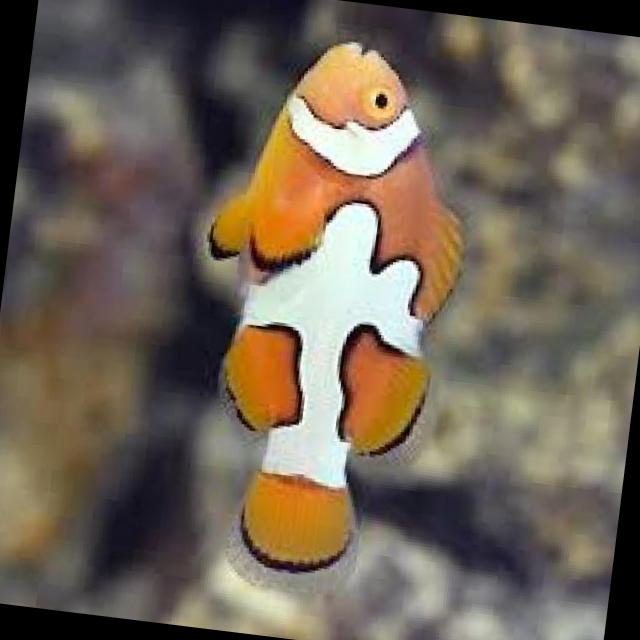ClownFish: (154, 16, 522, 621)
